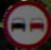No overtake: (6, 6, 47, 40)
